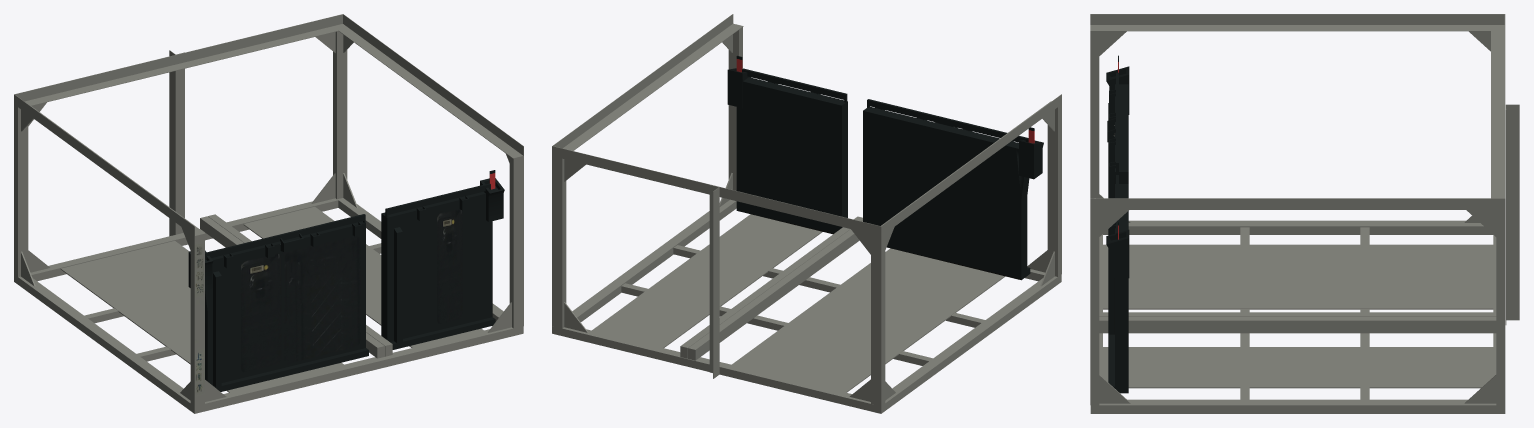
The model's file is tieban.FBX.
The picture shows the model from 3 angles, left to right: view 1: azimuth 30°, elevation 25°; view 2: azimuth 150°, elevation 25°; view 3: azimuth 270°, elevation 25°; orthographic projection. The views are drawn at different scales.
Visible parts, largest first — view 1: YF_Model_tieban, YF_Model_tiebanhuo; view 2: YF_Model_tieban, YF_Model_tiebanhuo; view 3: YF_Model_tieban, YF_Model_tiebanhuo.
Boxes of the visible parts, box(x1,y1,x2,y2) form: YF_Model_tieban: box(14, 14, 523, 413); YF_Model_tiebanhuo: box(188, 170, 504, 391); YF_Model_tieban: box(552, 14, 1061, 413); YF_Model_tiebanhuo: box(727, 55, 1043, 280); YF_Model_tieban: box(1090, 14, 1519, 413); YF_Model_tiebanhuo: box(1106, 55, 1129, 393).
Bounding box in the file's own units: 133 × 72.34 × 131.
Materials: 1 (1 with a texture image).
